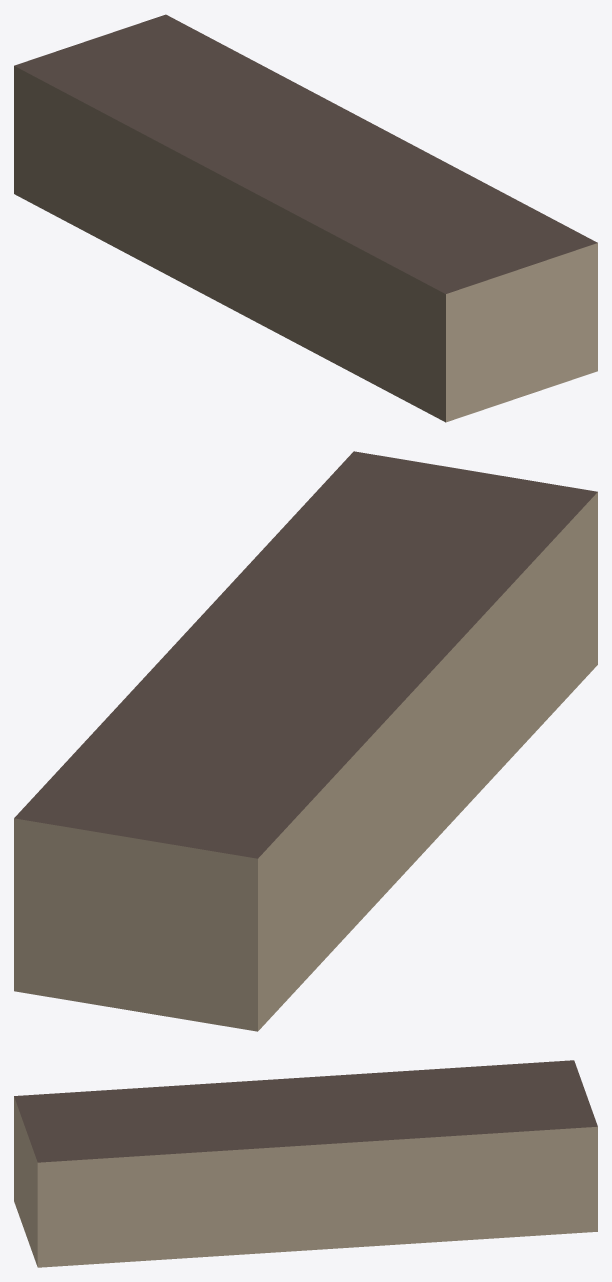
3 renders of one model, top to bottom at view 1: azimuth 30°, elevation 25°; view 2: azimuth 150°, elevation 25°; view 3: azimuth 270°, elevation 25°, orthographic. The views are drawn at different scales.
Visible parts, largest first — view 1: HP-w702173896; view 2: HP-w702173896; view 3: HP-w702173896.
Part boxes in pixels (left/top/right/bottom): HP-w702173896: left=14, top=14, right=597, bottom=422; HP-w702173896: left=14, top=451, right=597, bottom=1031; HP-w702173896: left=14, top=1060, right=597, bottom=1267.
Bounding box in the file's own units: 12.55 × 6 × 30.22.
